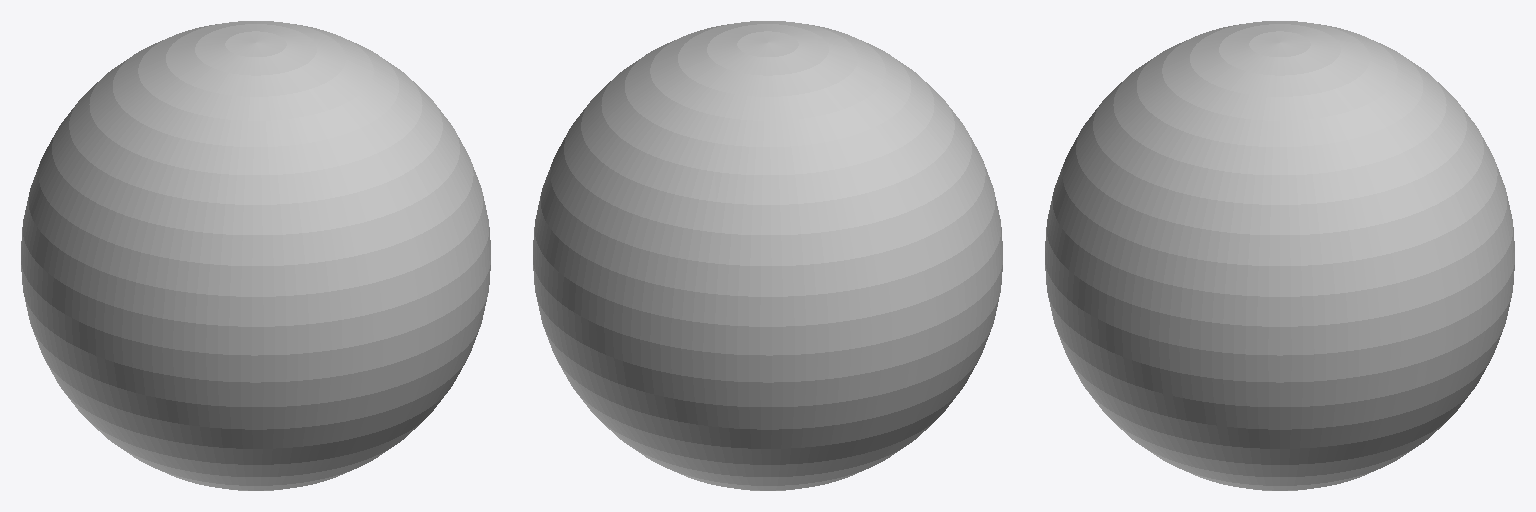
The model's file is Mars.obj.
3 views of the same model, side by side, from view 1: azimuth 30°, elevation 25°; view 2: azimuth 150°, elevation 25°; view 3: azimuth 270°, elevation 25° (orthographic).
Parts seen in each view (by area): view 1: Sphere_Material.002_0.002_Sphere_Material.002_0.011; view 2: Sphere_Material.002_0.002_Sphere_Material.002_0.011; view 3: Sphere_Material.002_0.002_Sphere_Material.002_0.011.
Boxes of the visible parts, <box> form: Sphere_Material.002_0.002_Sphere_Material.002_0.011: <box>21,21,490,490</box>; Sphere_Material.002_0.002_Sphere_Material.002_0.011: <box>533,21,1002,490</box>; Sphere_Material.002_0.002_Sphere_Material.002_0.011: <box>1045,21,1514,490</box>.
Size of the model in its own units: 4.21 by 4.21 by 4.21.